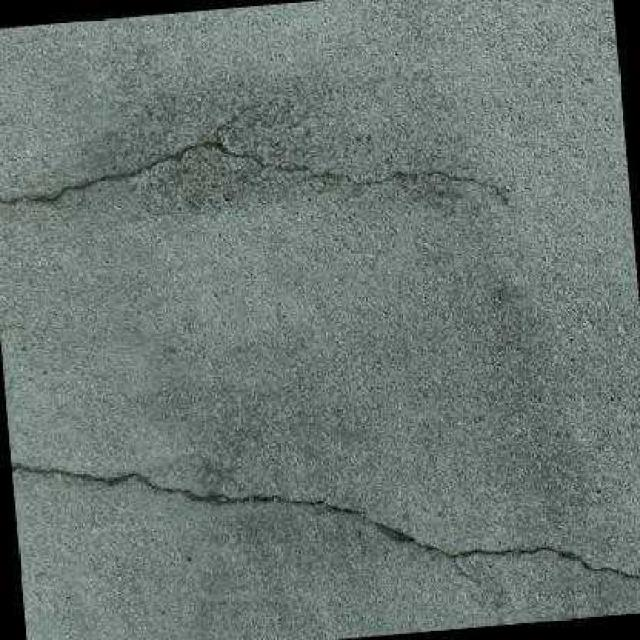D00: (11, 462, 640, 579), (0, 140, 507, 204)
